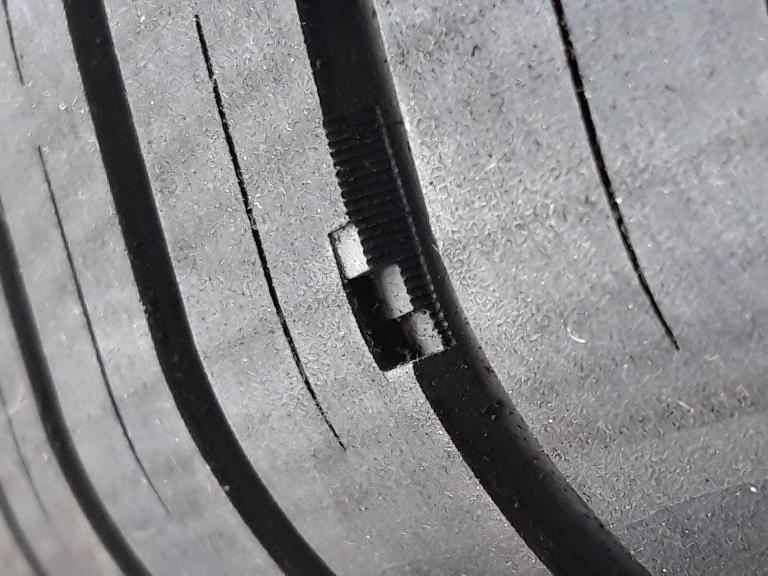temoin:50: (322, 209, 465, 385)
